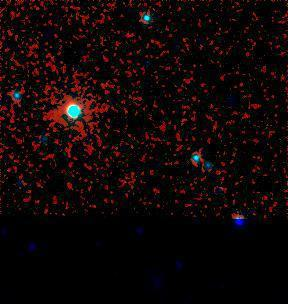star: (29, 123, 59, 153)
